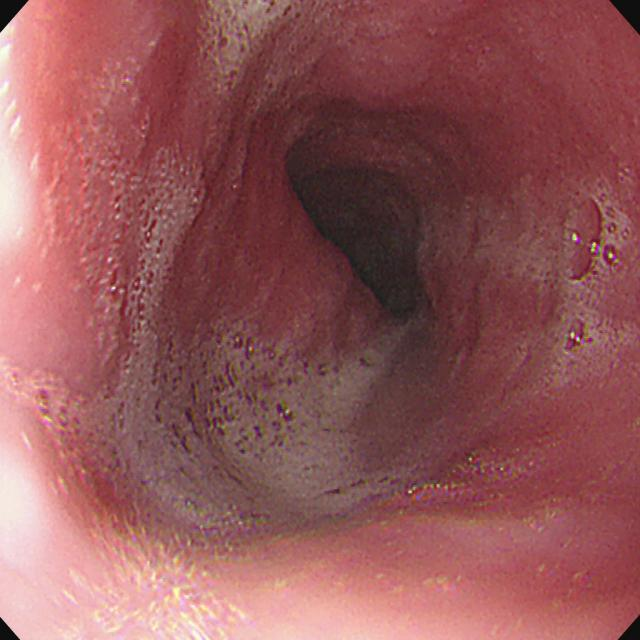E: (298, 171, 421, 314)
T: (95, 332, 413, 537), (78, 144, 210, 332), (456, 185, 633, 288), (195, 2, 329, 100), (551, 307, 611, 381)
